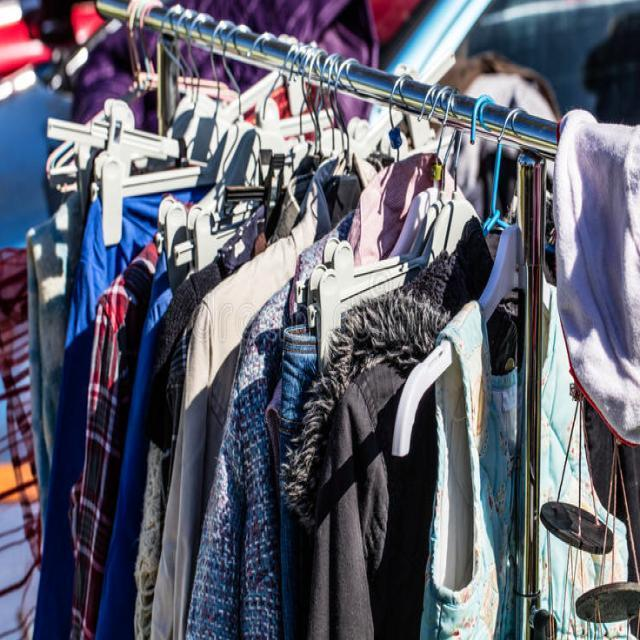clothes: (36, 223, 518, 640)
